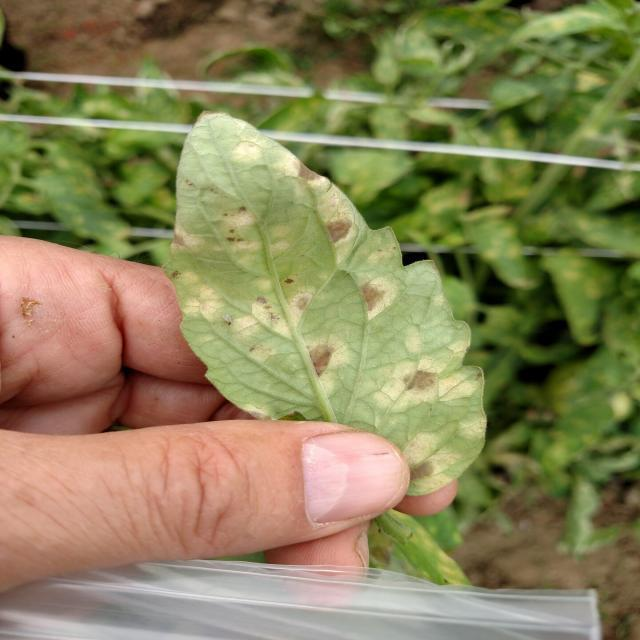Mosaic Virus: (180, 119, 502, 515)
